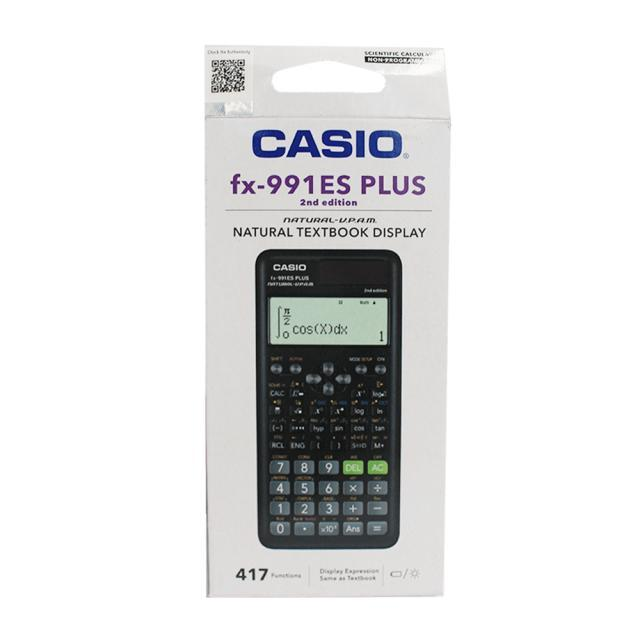Calculator: (245, 237, 411, 560)
